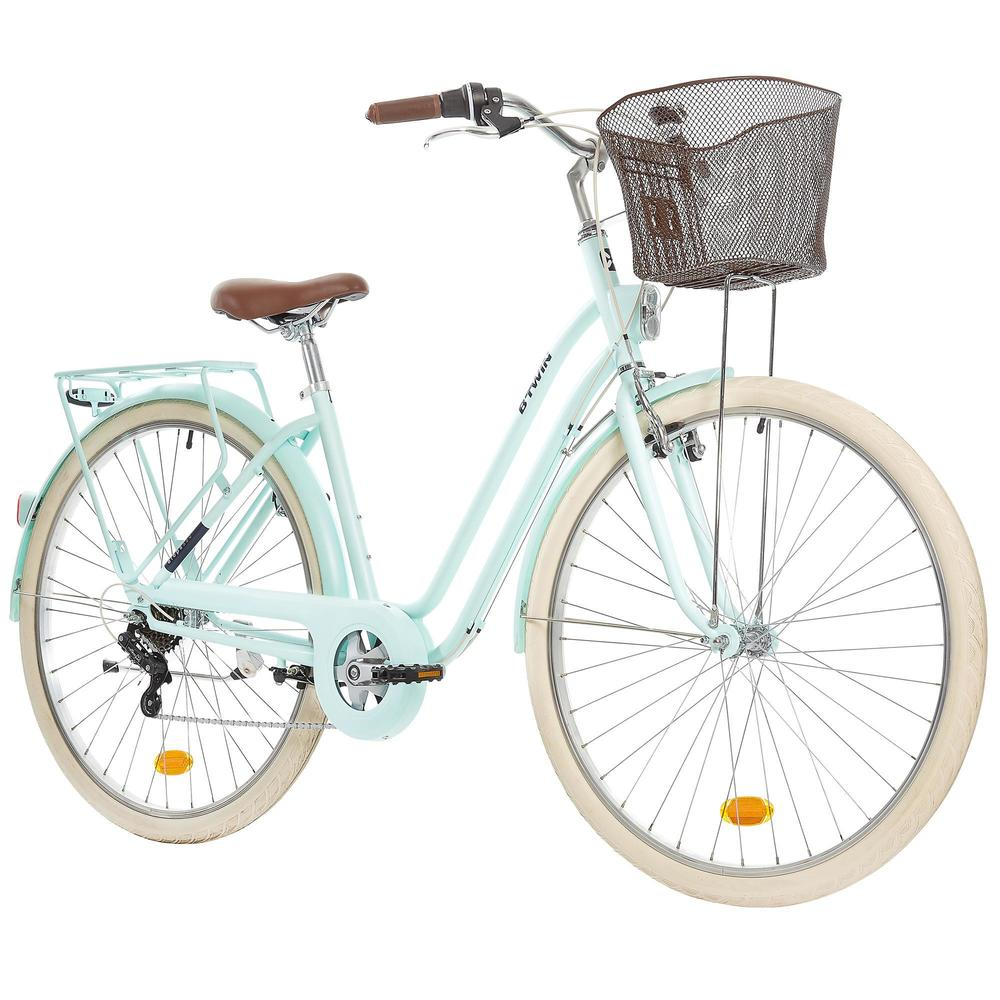UrbanBike: (16, 57, 984, 884)
